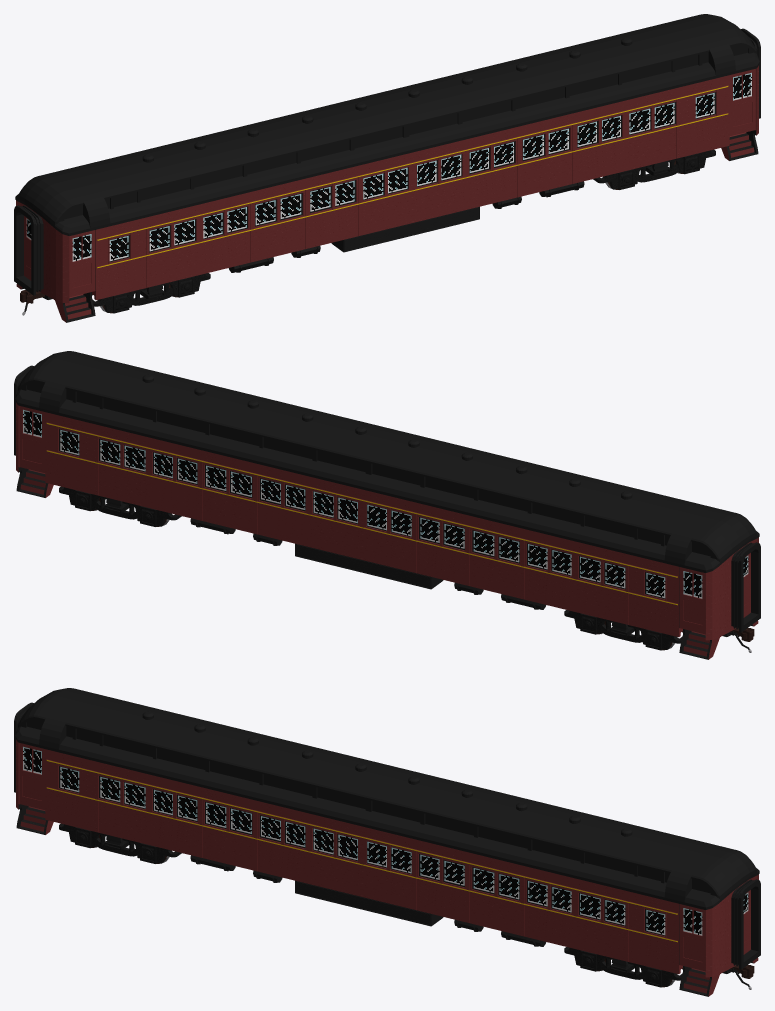
File: p70coach1.obj
3 views of the same model, one above another, from view 1: azimuth 30°, elevation 25°; view 2: azimuth 150°, elevation 25°; view 3: azimuth 330°, elevation 25° (orthographic).
Parts seen in each view (by area): view 1: FRAME.002_Cube.004, FRAME.001_Cube.056, FRAME_Cube.003, details.003_Cube.108, BOGEY_FRONT_Cube.006, BOGEY_REAR_Cube.005, Cylinder.008_Cylinder.044; view 2: FRAME.002_Cube.004, FRAME.001_Cube.056, FRAME_Cube.003, details.003_Cube.108, BOGEY_FRONT_Cube.006, BOGEY_REAR_Cube.005, Cylinder.008_Cylinder.044; view 3: FRAME.002_Cube.004, FRAME.001_Cube.056, FRAME_Cube.003, details.003_Cube.108, BOGEY_REAR_Cube.005, BOGEY_FRONT_Cube.006, Cylinder.008_Cylinder.044.
Boxes of the visible parts, <box> form: FRAME.002_Cube.004: <box>15,14,759,235</box>; FRAME.001_Cube.056: <box>14,28,760,297</box>; FRAME_Cube.003: <box>16,128,758,322</box>; details.003_Cube.108: <box>69,69,755,297</box>; BOGEY_FRONT_Cube.006: <box>593,149,715,189</box>; BOGEY_REAR_Cube.005: <box>92,273,210,313</box>; Cylinder.008_Cylinder.044: <box>142,37,632,162</box>; FRAME.002_Cube.004: <box>15,351,759,572</box>; FRAME.001_Cube.056: <box>14,365,760,634</box>; FRAME_Cube.003: <box>16,465,758,659</box>; details.003_Cube.108: <box>19,406,705,634</box>; BOGEY_FRONT_Cube.006: <box>59,486,181,526</box>; BOGEY_REAR_Cube.005: <box>564,610,682,650</box>; Cylinder.008_Cylinder.044: <box>142,374,632,499</box>; FRAME.002_Cube.004: <box>15,688,759,909</box>; FRAME.001_Cube.056: <box>14,702,760,971</box>; FRAME_Cube.003: <box>16,802,758,996</box>; details.003_Cube.108: <box>19,743,705,971</box>; BOGEY_REAR_Cube.005: <box>59,823,181,863</box>; BOGEY_FRONT_Cube.006: <box>564,947,682,987</box>; Cylinder.008_Cylinder.044: <box>142,711,632,836</box>.
Size of the model in its own units: 25.63 by 4.6 by 3.12.
Materials: 19 (19 with a texture image).
